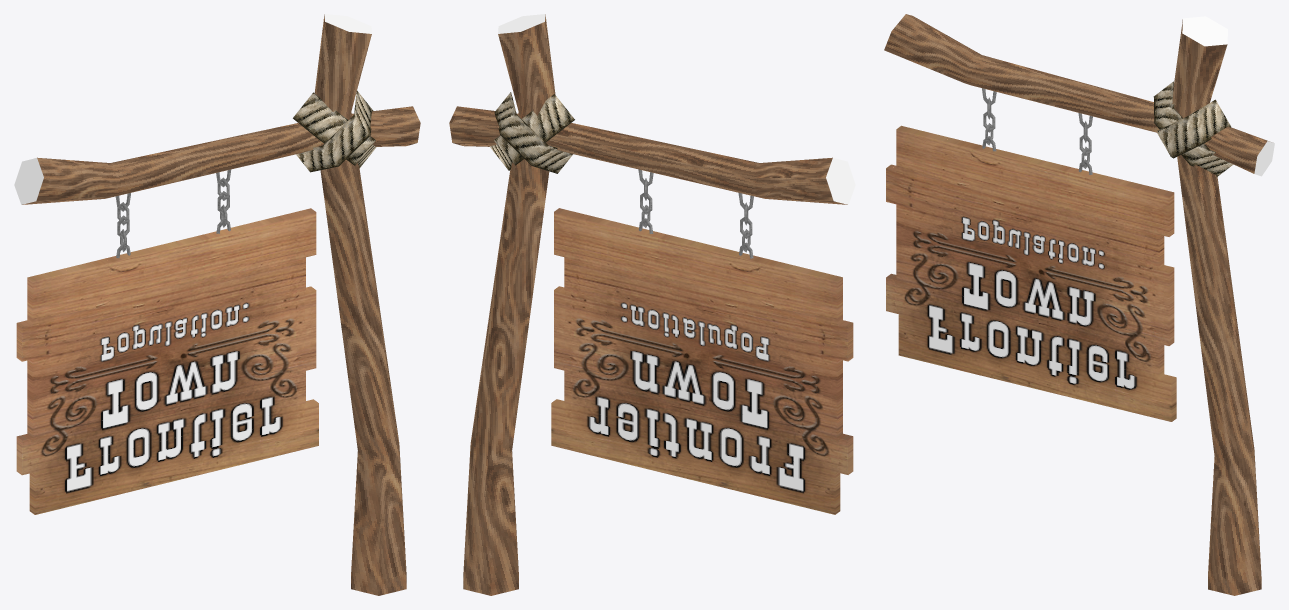
The picture shows the model from 3 angles, left to right: view 1: azimuth 30°, elevation 25°; view 2: azimuth 150°, elevation 25°; view 3: azimuth 330°, elevation 25°; orthographic projection. The views are drawn at different scales.
Visible parts, largest first — view 1: sign_boards, frame, rope, wood_rings, chain; view 2: sign_boards, frame, rope, wood_rings, chain; view 3: sign_boards, frame, rope, wood_rings, chain.
Boxes of the visible parts, <box> form: sign_boards: <box>16,208,318,514</box>; frame: <box>22,14,420,595</box>; rope: <box>293,90,376,172</box>; wood_rings: <box>14,14,371,204</box>; chain: <box>115,169,231,258</box>; sign_boards: <box>551,208,853,514</box>; frame: <box>449,14,847,595</box>; rope: <box>489,92,574,173</box>; wood_rings: <box>498,14,855,204</box>; chain: <box>638,169,753,258</box>; sign_boards: <box>886,125,1176,421</box>; frame: <box>884,14,1269,595</box>; rope: <box>1153,81,1233,176</box>; wood_rings: <box>1182,16,1274,176</box>; chain: <box>982,88,1092,174</box>.
Size of the model in its own units: 161 by 224 by 19.74.
5 materials, 4 textured.
